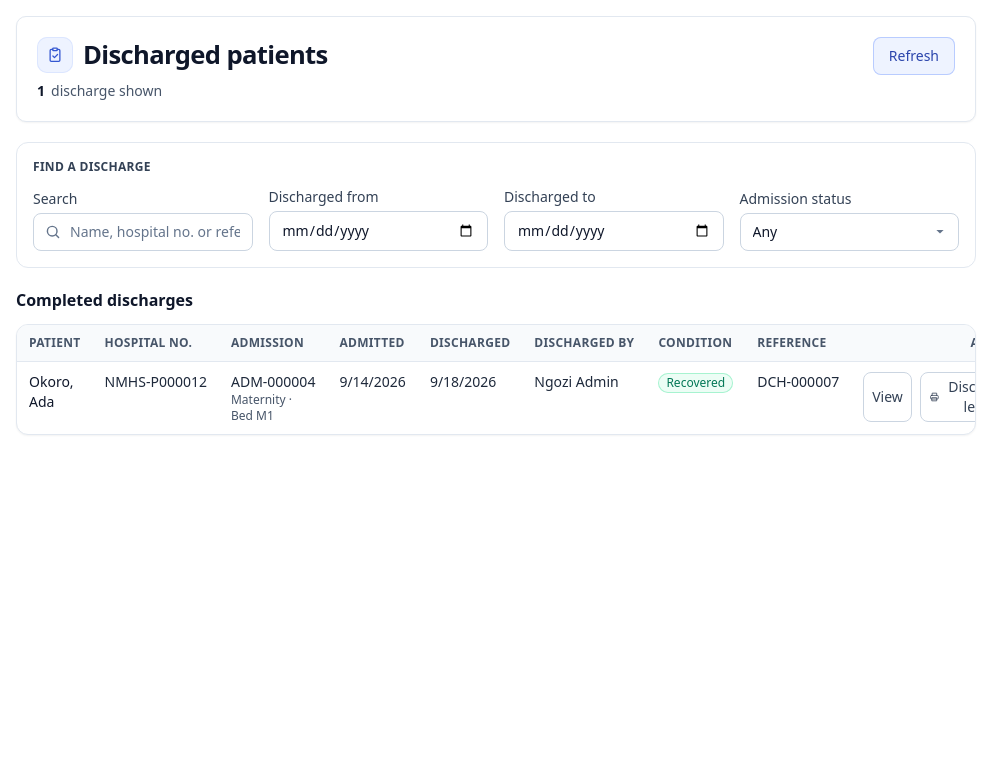
Test: opening a discharged patient › offers the letter from the opened record
This screenshot has width=993, height=766.
Click the button "View".
click(888, 397)  # box [863,372,912,422]
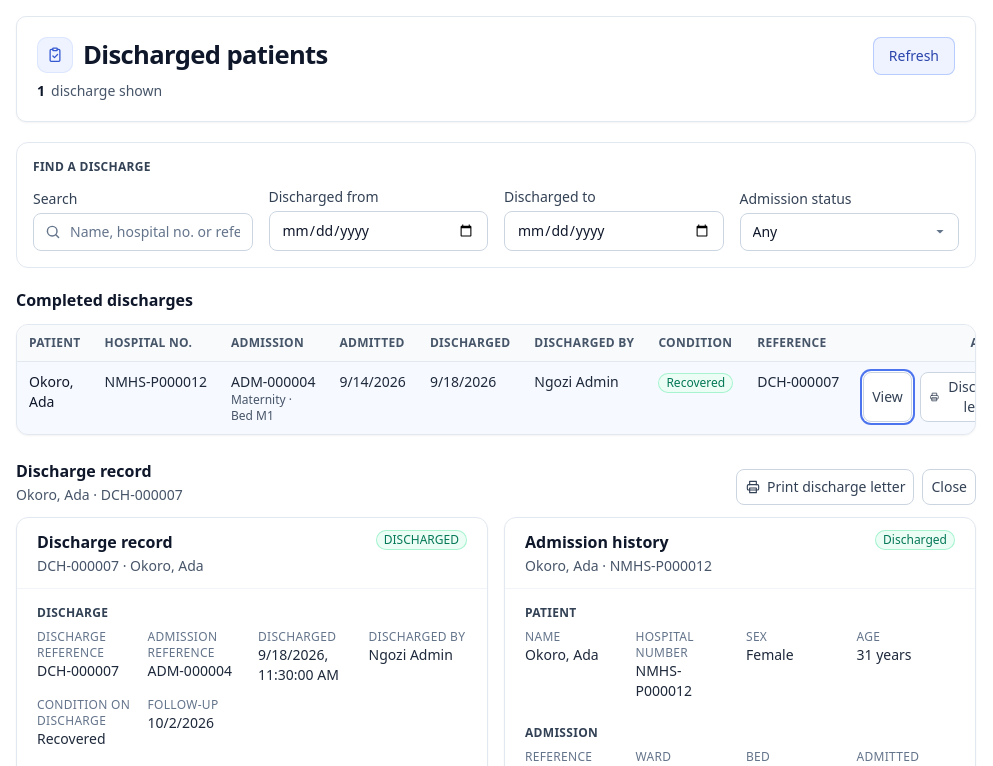
Expected: the button "Print discharge letter" is shown, [736,469,914,505]
